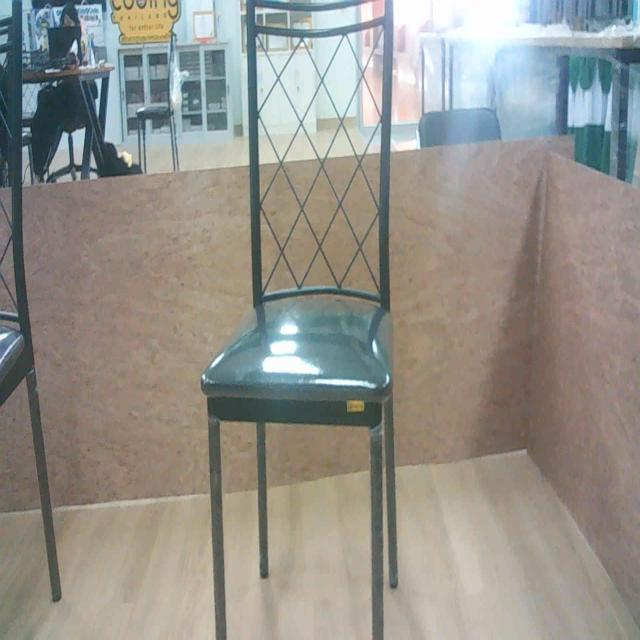emtpy: (205, 4, 404, 640)
